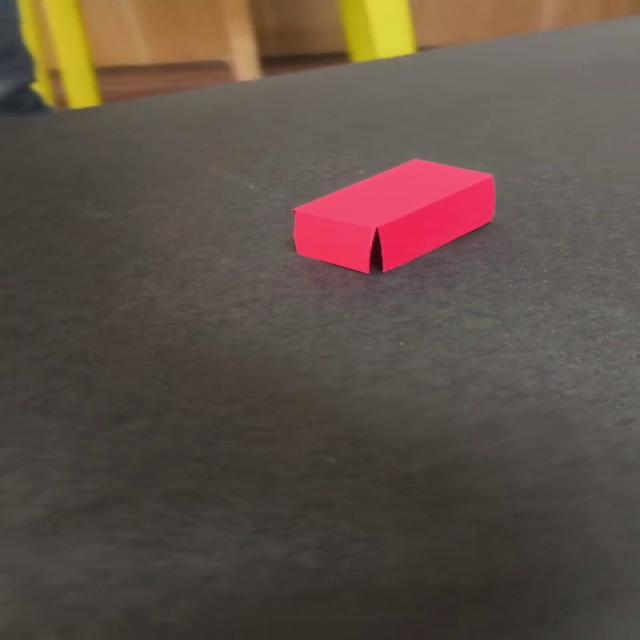red block: (289, 157, 496, 274)
